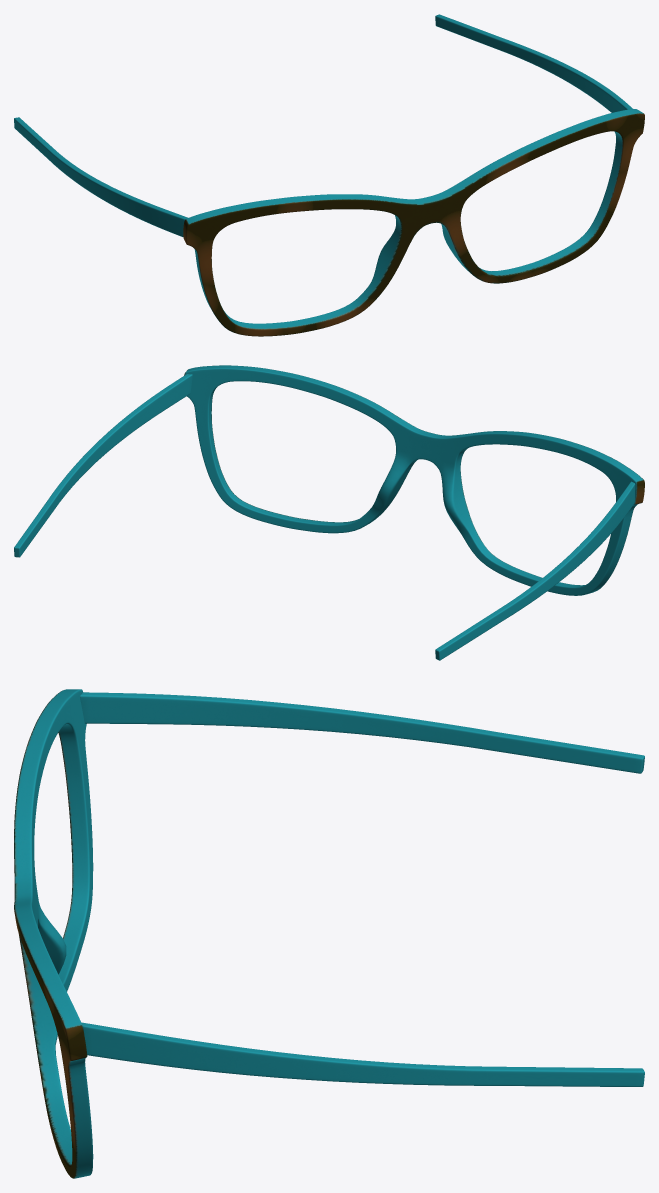
The model's file is RB7108_app.glb.
3 renders of one model, top to bottom at view 1: azimuth 30°, elevation 25°; view 2: azimuth 150°, elevation 25°; view 3: azimuth 270°, elevation 25°, orthographic. The views are drawn at different scales.
Parts seen in each view (by area): view 1: Armacao001; view 2: Armacao001; view 3: Armacao001.
Boxes of the visible parts, x1,y1,x2,y2 form: Armacao001: (14,14,644,336); Armacao001: (14,365,644,660); Armacao001: (14,689,644,1178).
Bounding box in the file's own units: 0.1574 × 0.0455 × 0.1185.
2 materials, 2 textured.
